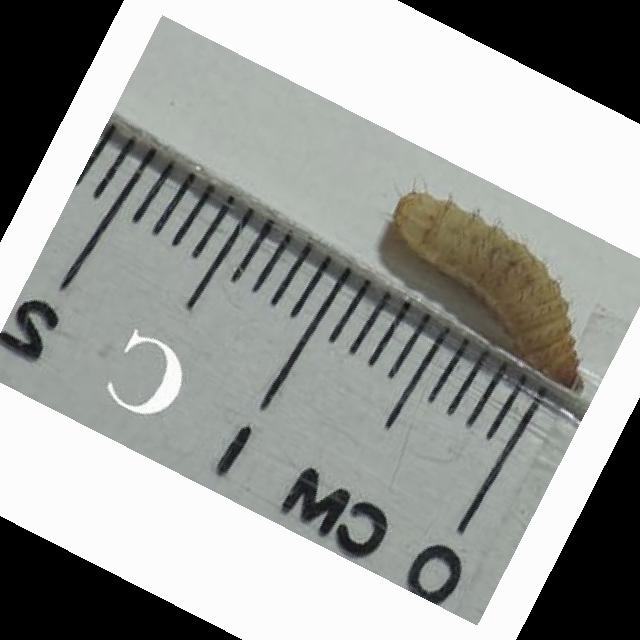Maggot: (393, 191, 583, 391)
